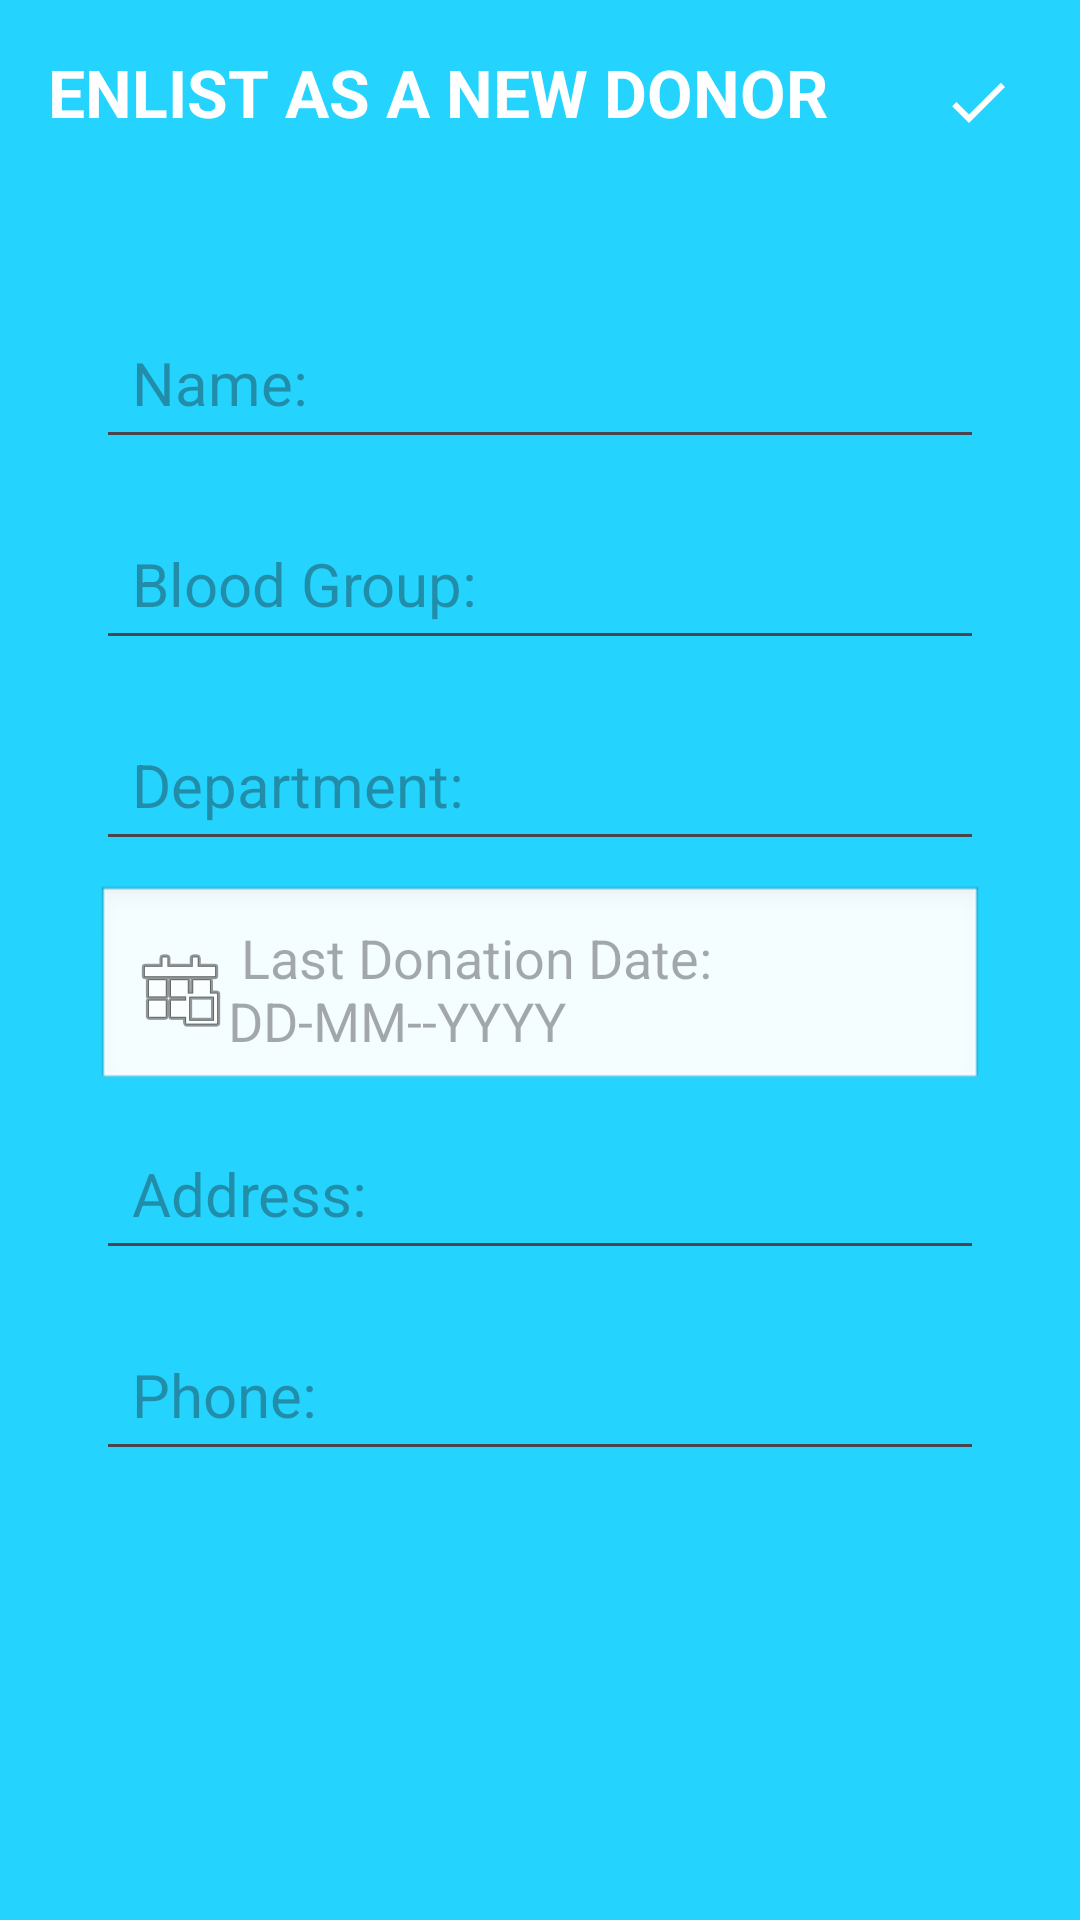

Icons on this 1080 × 1920 Android screen, each with its box as (x1, y1, x2, y2):
done: (952, 83, 1005, 123)
